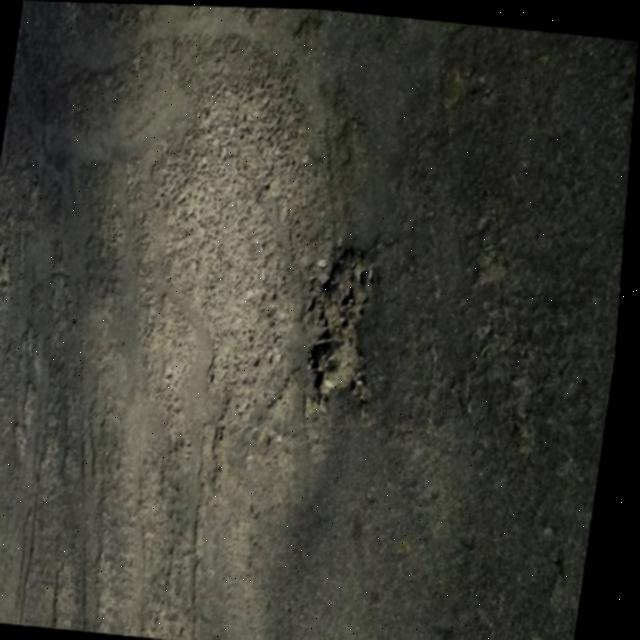Pothole: (546, 33, 639, 571), (301, 243, 389, 408)
